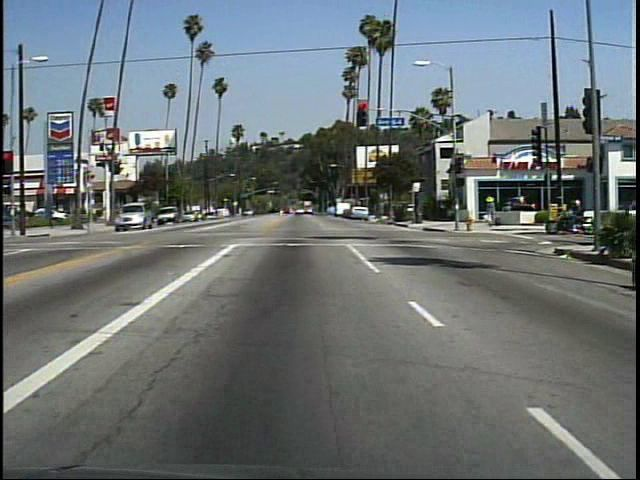person: (562, 194, 588, 237), (482, 192, 499, 228)
